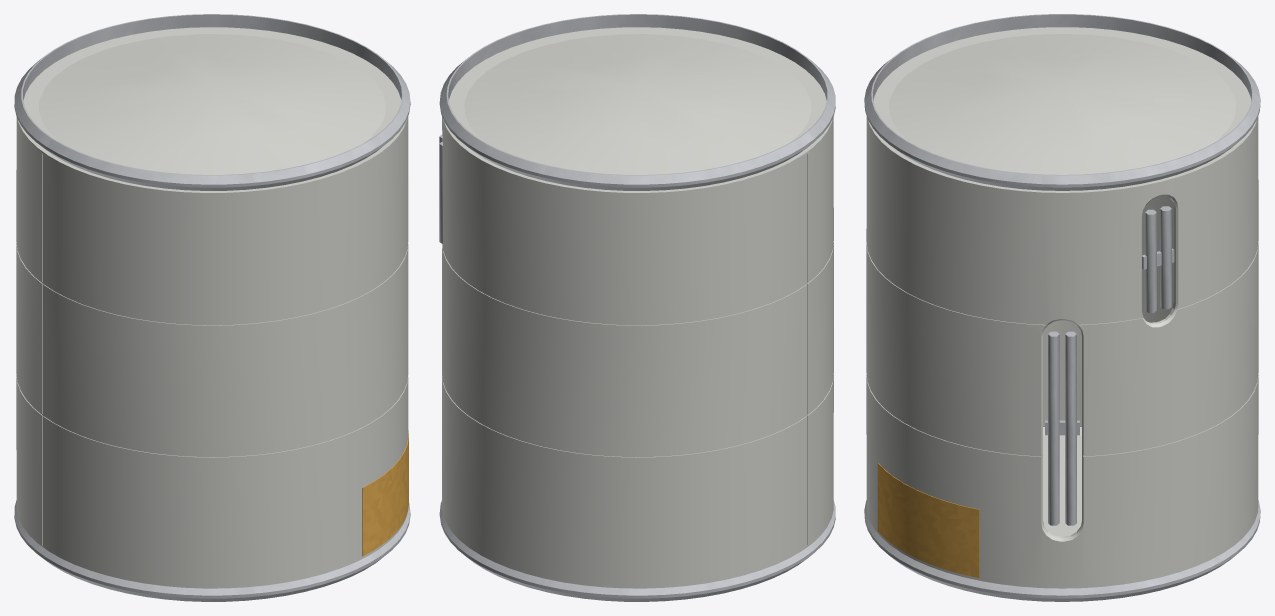
File: ax_tank_01_modern_methalox_l_short.glb
3 views of the same model, side by side, from view 1: azimuth 30°, elevation 25°; view 2: azimuth 150°, elevation 25°; view 3: azimuth 270°, elevation 25° (orthographic).
Visible parts, largest first — view 1: tank_barrel, dome_caps, end_rings, mli_patch; view 2: tank_barrel, dome_caps, end_rings; view 3: tank_barrel, dome_caps, end_rings, raceway_lines, mli_patch.
Part boxes in pixels (x1,y1,x2,y2): tank_barrel: (16,116,408,588); dome_caps: (23,27,401,174); end_rings: (14,14,410,601); mli_patch: (362,430,408,556); tank_barrel: (442,116,833,588); dome_caps: (449,27,826,174); end_rings: (439,14,835,601); tank_barrel: (866,116,1258,588); dome_caps: (873,27,1251,536); end_rings: (864,14,1260,601); raceway_lines: (1045,206,1174,525); mli_patch: (877,463,979,577).
Bounding box in the file's own units: 3.79 × 4.64 × 3.79.
3 materials, 2 textured.
